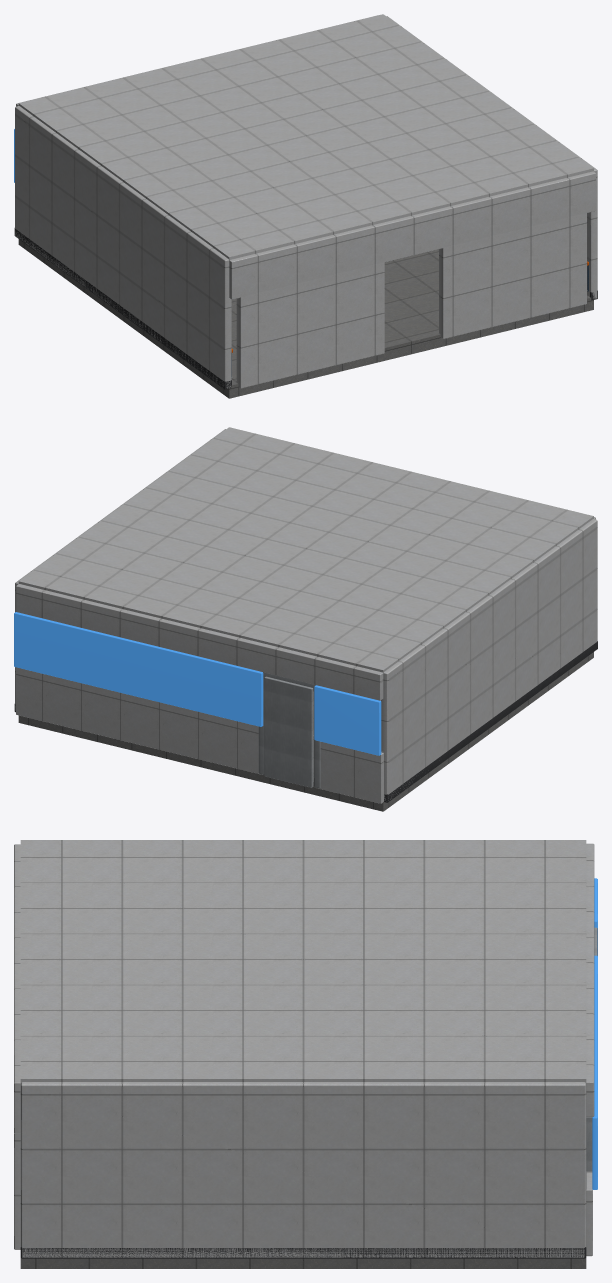
The model's file is matter-workshop-orbital.glb.
3 views of the same model, one above another, from view 1: azimuth 30°, elevation 25°; view 2: azimuth 150°, elevation 25°; view 3: azimuth 270°, elevation 25° (orthographic). The views are drawn at different scales.
Parts seen in each view (by area): view 1: Surface · Orbital panel, Surface · Orbital deck, Surface · Orbital graphite; view 2: Surface · Orbital panel, Surface · Dusk window glass, Surface · Orbital steel, Surface · Orbital deck, Surface · Orbital graphite; view 3: Surface · Orbital panel, Surface · Orbital deck, Surface · Orbital graphite, Surface · Dusk window glass.
Boxes of the visible parts, bbox=[...] form: Surface · Orbital panel: bbox=[15, 14, 597, 388]; Surface · Orbital deck: bbox=[18, 239, 593, 398]; Surface · Orbital graphite: bbox=[14, 228, 597, 389]; Surface · Orbital panel: bbox=[15, 427, 597, 803]; Surface · Dusk window glass: bbox=[14, 612, 381, 755]; Surface · Orbital steel: bbox=[258, 672, 383, 788]; Surface · Orbital deck: bbox=[18, 652, 593, 811]; Surface · Orbital graphite: bbox=[14, 641, 597, 802]; Surface · Orbital panel: bbox=[14, 840, 594, 1257]; Surface · Orbital deck: bbox=[20, 1258, 586, 1268]; Surface · Orbital graphite: bbox=[20, 1247, 586, 1258]; Surface · Dusk window glass: bbox=[592, 878, 597, 1189].
Bounding box in the file's own units: 12.29 × 4.45 × 12.4.
Materials: 13 (9 with a texture image).
